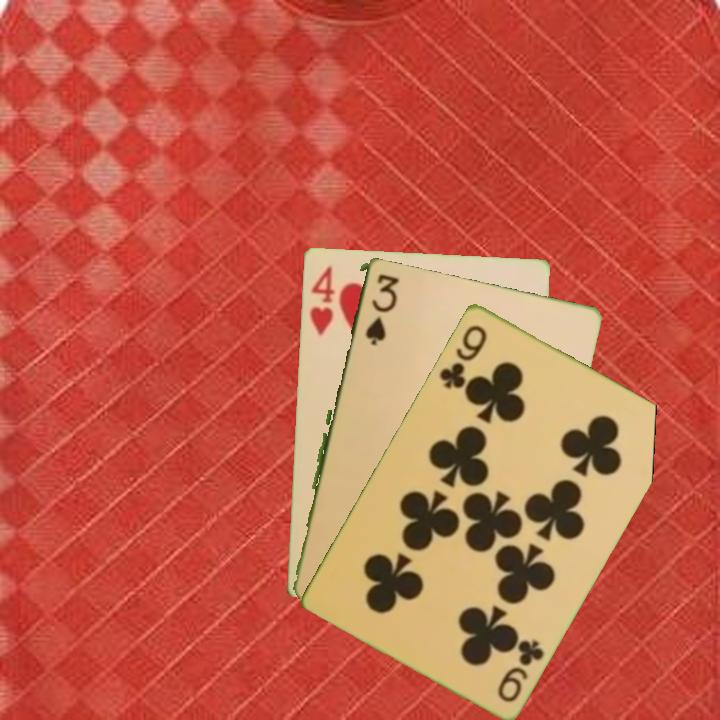3s: (361, 269, 396, 349)
4h: (306, 262, 337, 338)
9c: (435, 320, 490, 391), (493, 635, 547, 705)
